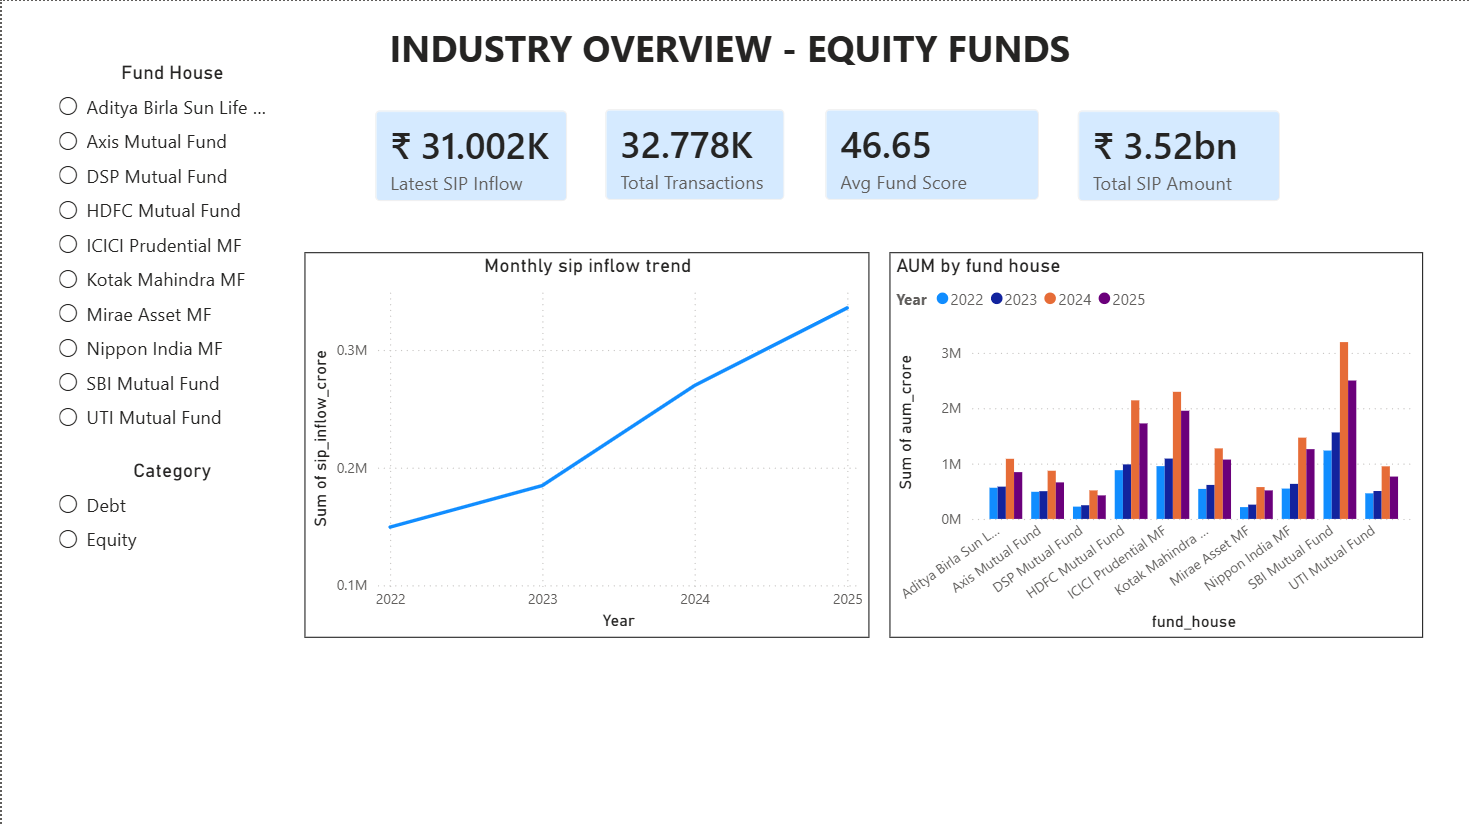

What the dashboard file says about the page in this screenshot:
{"tool":"powerbi","page":{"name":"industry","canvas":[1280,720],"ordinal":0},"visuals":[{"type":"cardVisual","fields":{"Data":["clean_aum.Latest SIP Inflow"]},"box":[307.1,78,201.1,113.2],"z":0},{"type":"cardVisual","fields":{"Data":["clean_aum.Total Transactions"]},"box":[507.7,76.8,190.7,114],"z":1000},{"type":"cardVisual","fields":{"Data":["clean_aum.Total SIP Amount"]},"box":[918.4,77.8,210.5,114],"z":2000},{"type":"cardVisual","fields":{"Data":["clean_aum.Avg Fund Score"]},"box":[698.4,76.8,220.9,114],"z":3000},{"type":"textbox","box":[329.1,14,607,62.8],"z":4000},{"type":"lineChart","title":"Monthly sip inflow trend","fields":{"Category":["clean_sip_inflows.month.Variation.Date Hierarchy.Year","clean_sip_inflows.month.Variation.Date Hierarchy.Quarter","clean_sip_inflows.month.Variation.Date Hierarchy.Month","clean_sip_inflows.month.Variation.Date Hierarchy.Day"],"Y":["Sum(clean_sip_inflows.sip_inflow_crore)"]},"box":[262.6,218,491.4,334.8],"z":5000},{"type":"clusteredColumnChart","title":"AUM by fund house","fields":{"Category":["clean_aum.fund_house"],"Y":["Sum(clean_aum.aum_crore)"],"Series":["clean_aum.date.Variation.Date Hierarchy.Year"]},"box":[772,218,463.7,334.8],"z":6000},{"type":"listSlicer","fields":{"Values":["clean_fund_master.fund_house"]},"box":[43.4,51.8,209.6,333.6],"z":7000},{"type":"listSlicer","fields":{"Values":["clean_fund_master.category"]},"box":[43.4,397.4,209.6,102.4],"z":8000}]}

Visuals, with their boxes in screenshot pixels (x1, y1, x2, y2), scaled from the page's 1280x720 canvas onto the 1471x824 screenshot:
cardVisual - clean_aum.Latest SIP Inflow: box(353, 89, 584, 219)
cardVisual - clean_aum.Total Transactions: box(583, 88, 803, 218)
cardVisual - clean_aum.Total SIP Amount: box(1055, 89, 1297, 220)
cardVisual - clean_aum.Avg Fund Score: box(803, 88, 1056, 218)
textbox: box(378, 16, 1076, 88)
"Monthly sip inflow trend" lineChart: box(302, 249, 867, 633)
"AUM by fund house" clusteredColumnChart: box(887, 249, 1420, 633)
listSlicer - clean_fund_master.fund_house: box(50, 59, 291, 441)
listSlicer - clean_fund_master.category: box(50, 455, 291, 572)
